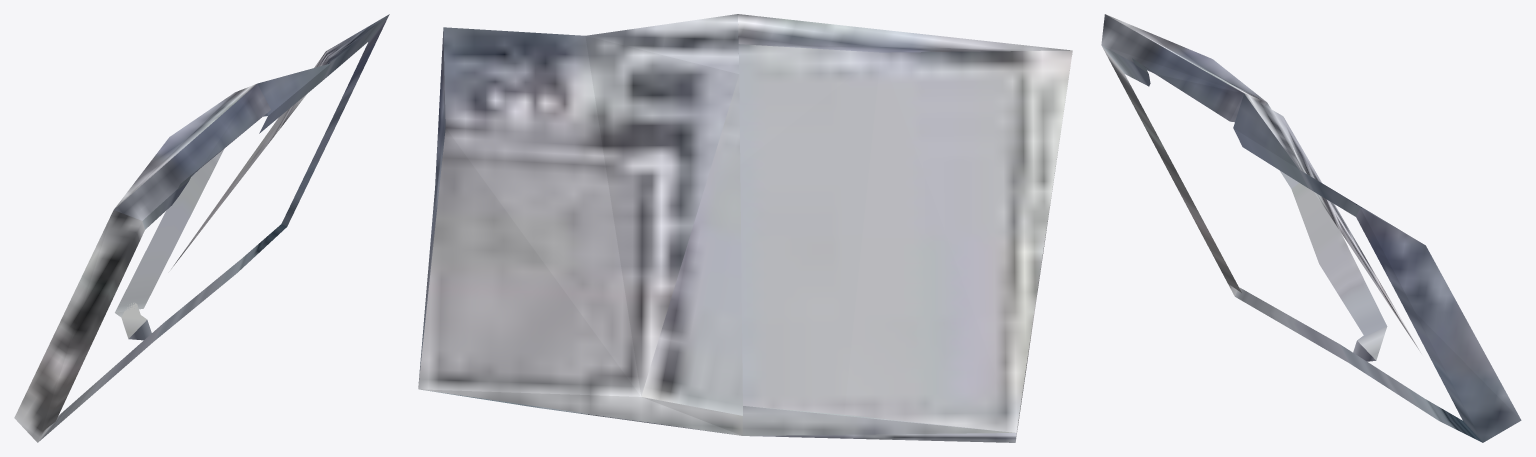
3 renders of one model, left to right at view 1: azimuth 30°, elevation 25°; view 2: azimuth 150°, elevation 25°; view 3: azimuth 270°, elevation 25°, orthographic. The views are drawn at different scales.
Bounding box in the file's own units: 36.3 × 24.7 × 29.5.
Materials: 1 (1 with a texture image).
